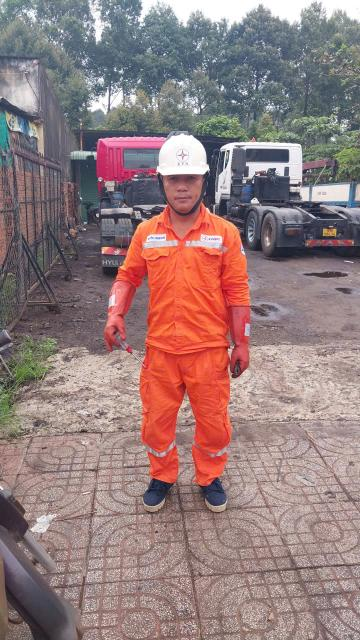gloves: (215, 298, 260, 381), (100, 279, 138, 356)
helmet: (153, 136, 216, 180)
shoes: (189, 472, 235, 522), (132, 466, 168, 521)
